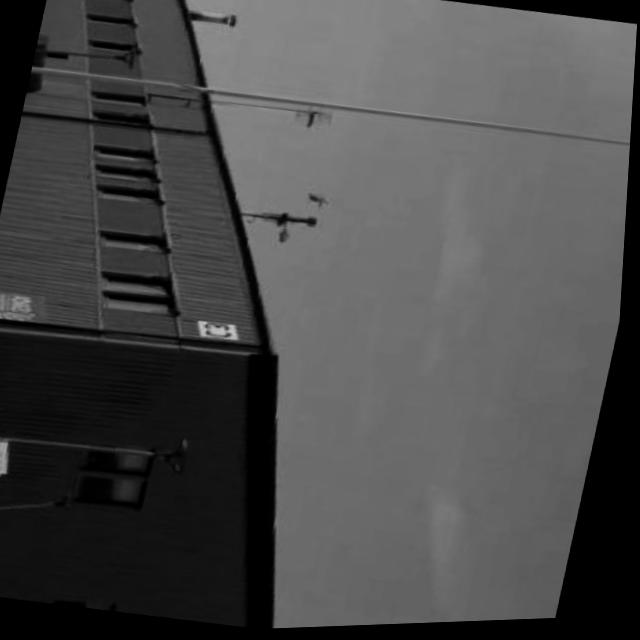helikopter: (300, 187, 340, 215)
